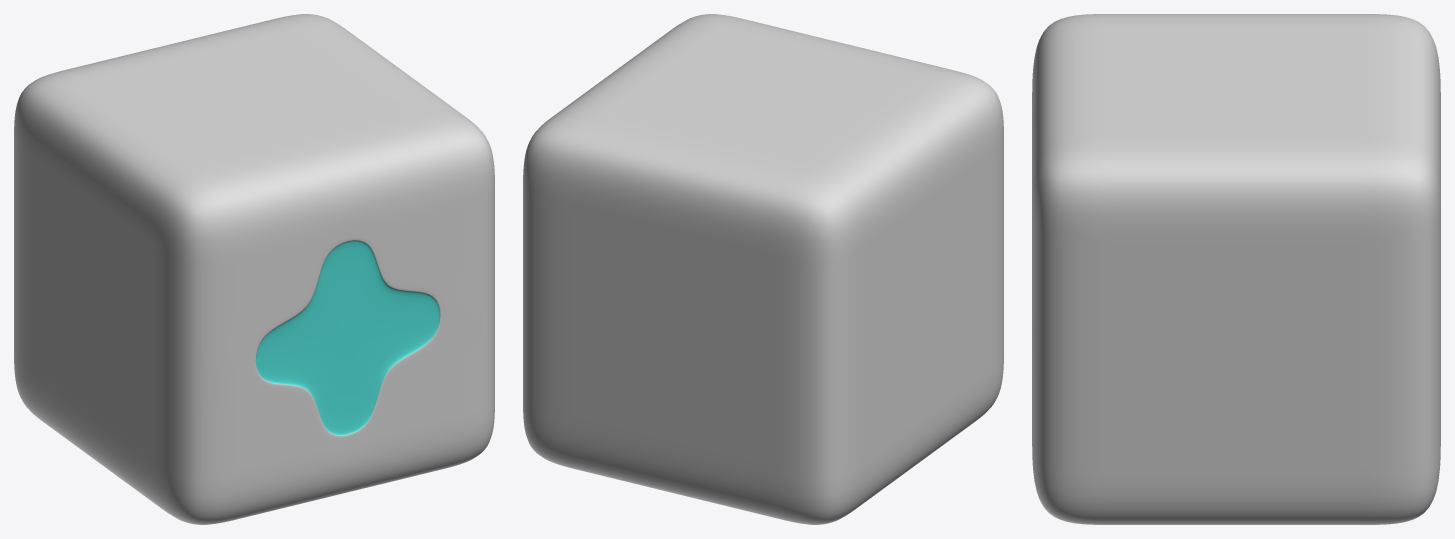
3 views of the same model, side by side, from view 1: azimuth 30°, elevation 25°; view 2: azimuth 150°, elevation 25°; view 3: azimuth 270°, elevation 25° (orthographic). The views are drawn at different scales.
Visible parts, largest first — view 1: pCube1; view 2: pCube1; view 3: pCube1.
Part boxes in pixels (<box>): pCube1: <box>14,14,494,524</box>; pCube1: <box>523,14,1003,524</box>; pCube1: <box>1032,14,1440,524</box>.
Size of the model in its own units: 100 by 100 by 100.
